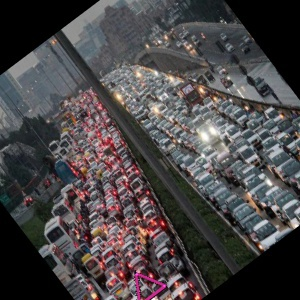triangle: (131, 271, 171, 300)
